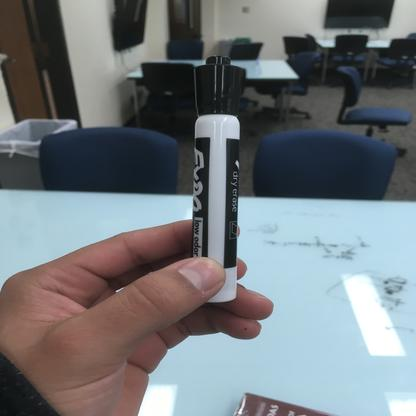expo_marker: (174, 51, 252, 307)
